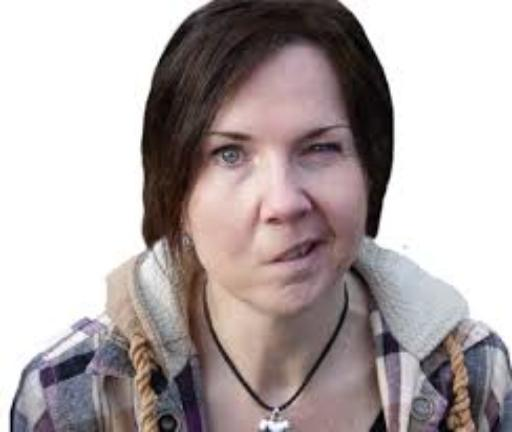left_eye: (300, 140, 350, 161)
left_lip_corner: (314, 237, 335, 254)
right_eye: (208, 143, 256, 168)
right_lip_corner: (258, 257, 276, 274)
